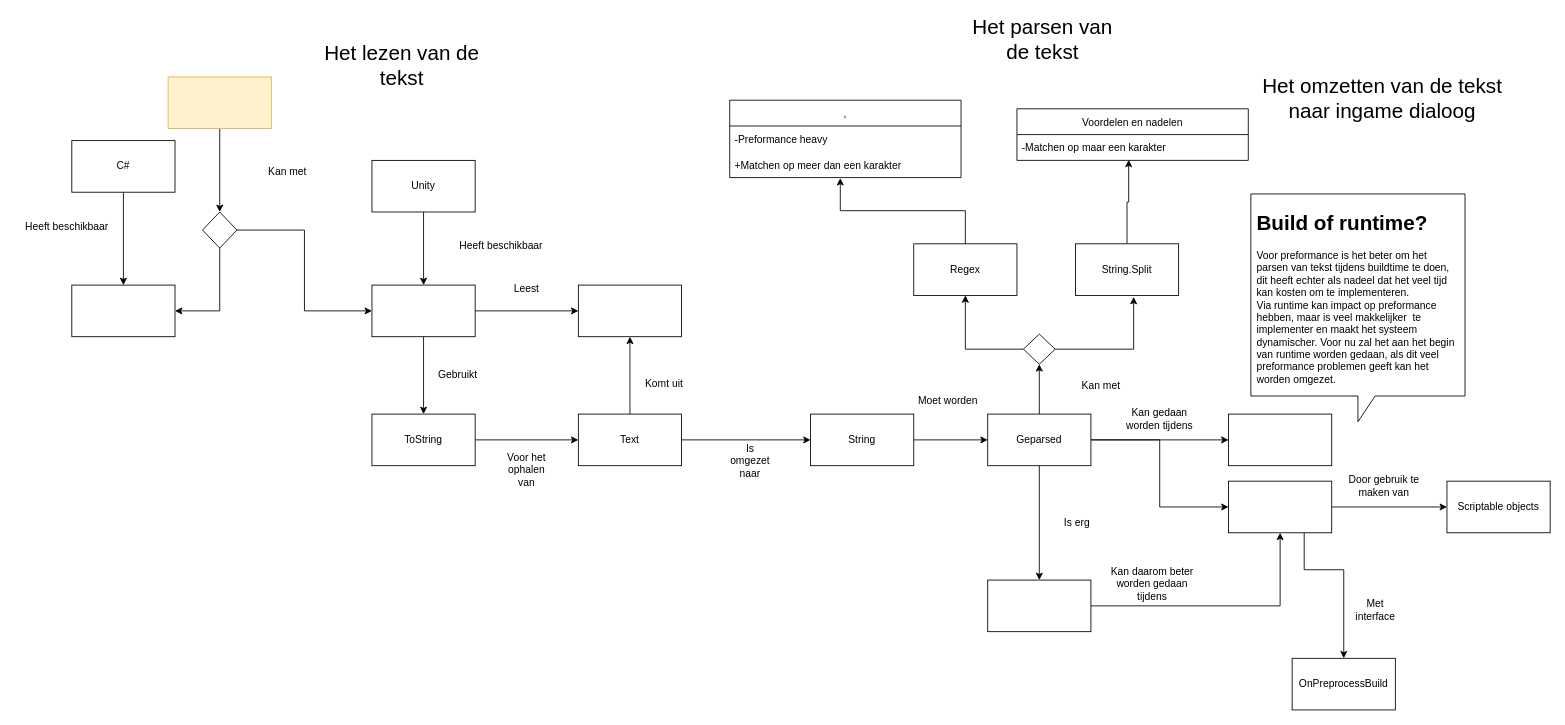
Some shapes in this 1565 by 725 pixel diagram are drawn without their labels. The shapes that lost their labels are listed below. From the top down, each one's box as (x1, y1, x2, y2) in pixels, then its label:
(167, 76, 271, 129): Uitlezen bestanden voor het maken van dialoog.
(71, 284, 175, 337): StreamReader Class
(371, 284, 475, 337): Unity textasset
(577, 284, 682, 337): .Txt bestanden
(1228, 413, 1332, 466): Runtime
(1228, 480, 1332, 533): Buildtime
(987, 579, 1091, 632): Preformance heavy bij grote hoeveelheden text
